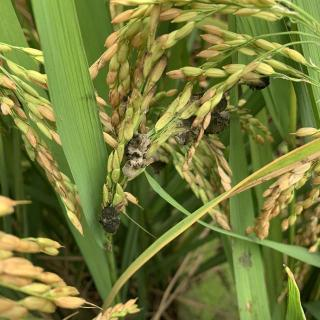Gosong-Palsu: (180, 91, 231, 144), (120, 132, 156, 178), (98, 203, 122, 234), (244, 68, 272, 92)
